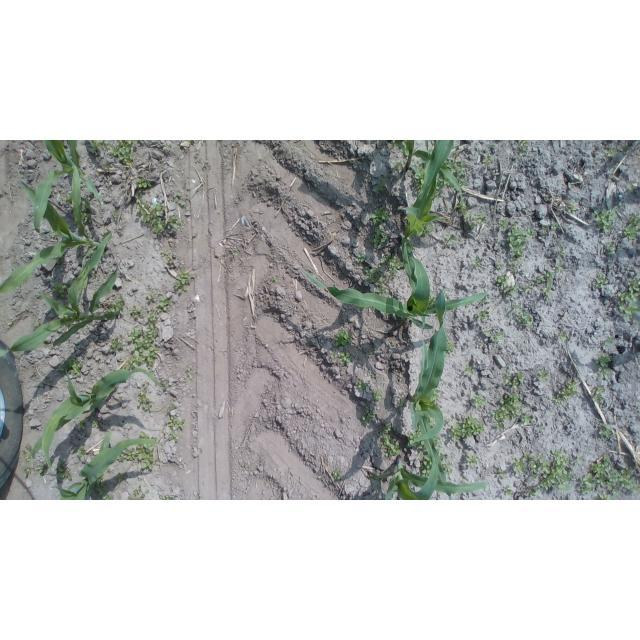Maize: (1, 232, 120, 358), (0, 158, 108, 293), (31, 366, 166, 472), (298, 258, 489, 331), (401, 140, 454, 336), (407, 291, 451, 498), (54, 430, 164, 500), (34, 140, 106, 234), (369, 456, 489, 500), (395, 140, 464, 200)
Weeds: (576, 456, 640, 501), (526, 450, 575, 498), (134, 191, 186, 236), (497, 219, 528, 275), (125, 327, 160, 370), (491, 392, 522, 432), (135, 432, 161, 473), (448, 414, 486, 442), (616, 278, 640, 322), (456, 195, 486, 229), (107, 141, 141, 168), (444, 151, 469, 186), (554, 379, 580, 406), (380, 253, 404, 282), (381, 424, 402, 457), (365, 266, 388, 296), (594, 209, 618, 235), (102, 295, 125, 321), (136, 381, 154, 414), (407, 424, 427, 452), (91, 476, 114, 500), (595, 353, 616, 379), (535, 272, 555, 299), (60, 356, 83, 379), (172, 267, 192, 293), (369, 207, 393, 228), (409, 163, 425, 193), (623, 213, 640, 241), (512, 304, 533, 325), (370, 227, 388, 249), (504, 372, 524, 389), (483, 327, 505, 342), (432, 176, 444, 203), (52, 282, 69, 301), (333, 331, 352, 348), (128, 485, 149, 500), (330, 350, 351, 365), (421, 454, 433, 478), (76, 444, 91, 463), (375, 176, 389, 196), (464, 454, 481, 470), (117, 447, 135, 462), (443, 231, 458, 249), (361, 407, 375, 426), (56, 463, 72, 479), (511, 456, 525, 474), (470, 393, 486, 408), (168, 415, 185, 429), (503, 284, 520, 298), (157, 298, 171, 315), (89, 140, 105, 154), (129, 306, 146, 319), (146, 311, 158, 329), (109, 338, 124, 352), (22, 446, 35, 462), (593, 387, 606, 403), (518, 140, 531, 156), (160, 250, 174, 264), (598, 424, 613, 437), (355, 253, 370, 266), (445, 340, 456, 357), (136, 177, 153, 188), (596, 274, 609, 288), (420, 223, 433, 237), (476, 308, 489, 321), (37, 460, 48, 475), (80, 196, 90, 212), (167, 430, 179, 443), (332, 468, 344, 481), (81, 213, 93, 226), (521, 412, 534, 424), (537, 370, 549, 383), (394, 159, 405, 173), (432, 436, 443, 450), (603, 147, 618, 157), (427, 414, 436, 430), (372, 388, 383, 401), (495, 274, 509, 284), (358, 380, 369, 392), (440, 464, 452, 475), (184, 367, 194, 380), (482, 155, 495, 165), (567, 200, 577, 212), (100, 162, 112, 172), (115, 473, 125, 484), (504, 485, 514, 496), (555, 262, 565, 273), (527, 228, 538, 238), (472, 256, 481, 268), (145, 290, 155, 300), (604, 245, 615, 254), (556, 333, 568, 341), (78, 419, 87, 429), (497, 467, 506, 477), (523, 284, 533, 293), (64, 193, 72, 204), (400, 396, 407, 408), (91, 420, 100, 429), (464, 366, 473, 375), (550, 222, 559, 231), (6, 316, 14, 326), (112, 211, 120, 221), (605, 338, 615, 346), (439, 454, 449, 461), (160, 496, 173, 501), (201, 161, 209, 169), (25, 468, 32, 477), (622, 140, 629, 149), (541, 226, 548, 235), (269, 276, 277, 283), (629, 185, 637, 192), (160, 381, 167, 388), (33, 324, 40, 331), (610, 172, 617, 179), (483, 299, 490, 306), (374, 485, 380, 493), (169, 404, 174, 413), (92, 275, 99, 281), (558, 250, 564, 257), (0, 190, 8, 195), (118, 396, 123, 402), (232, 252, 238, 257), (371, 374, 377, 379), (166, 144, 172, 149), (188, 140, 195, 144), (72, 220, 77, 225), (95, 320, 101, 324), (567, 182, 571, 186)
